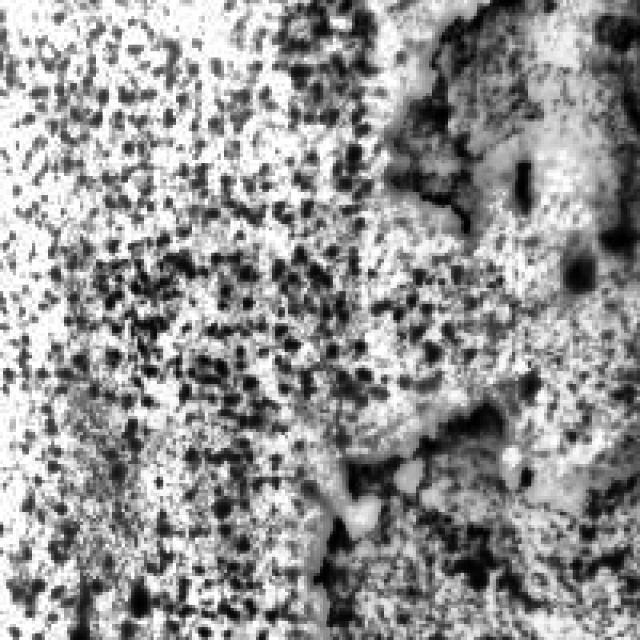Rolled_in_Scale: (0, 0, 381, 614)
Scratches: (301, 394, 544, 634), (374, 0, 582, 234)
